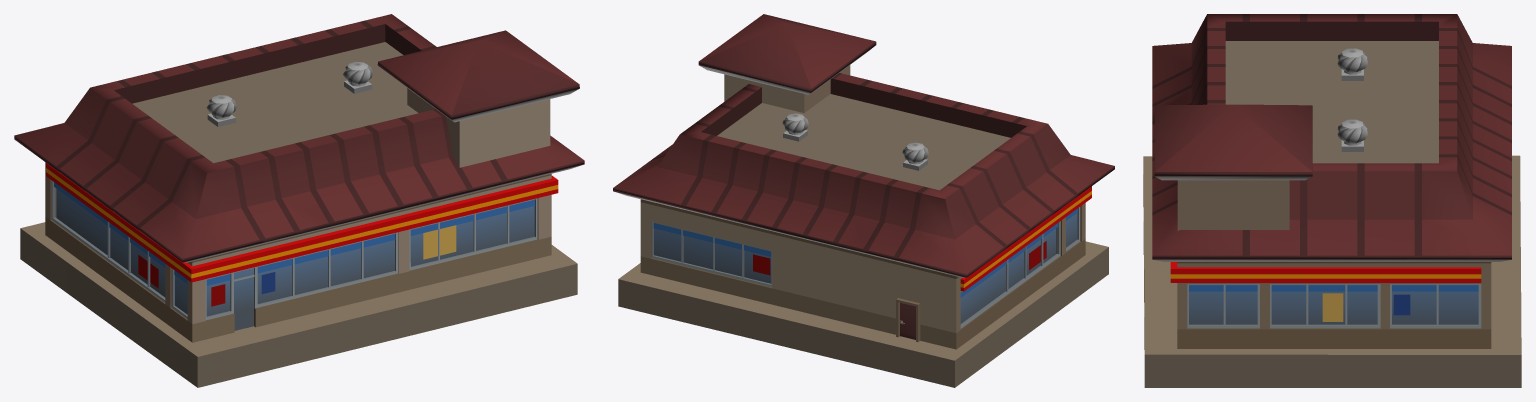
File: Business_FastFoodRestaurant.glb
3 views of the same model, side by side, from view 1: azimuth 30°, elevation 25°; view 2: azimuth 150°, elevation 25°; view 3: azimuth 270°, elevation 25° (orthographic). The views are drawn at different scales.
Parts seen in each view (by area): view 1: base.070, windowRefl.052, light.004, refl.011; view 2: base.070, windowRefl.052, light.004, refl.011; view 3: base.070, windowRefl.052, light.004, refl.011.
Part boxes in pixels (x1,y1,x2,y2): base.070: (14, 14, 584, 387); windowRefl.052: (56, 189, 534, 330); light.004: (46, 163, 558, 282); refl.011: (206, 62, 373, 126); base.070: (613, 14, 1114, 387); windowRefl.052: (654, 213, 1077, 323); light.004: (960, 186, 1091, 291); refl.011: (782, 113, 928, 324); base.070: (1143, 14, 1521, 387); windowRefl.052: (1189, 284, 1478, 324); light.004: (1170, 262, 1481, 282); refl.011: (1337, 48, 1367, 151).
Bounding box in the file's own units: 24.64 × 13.88 × 18.78.
